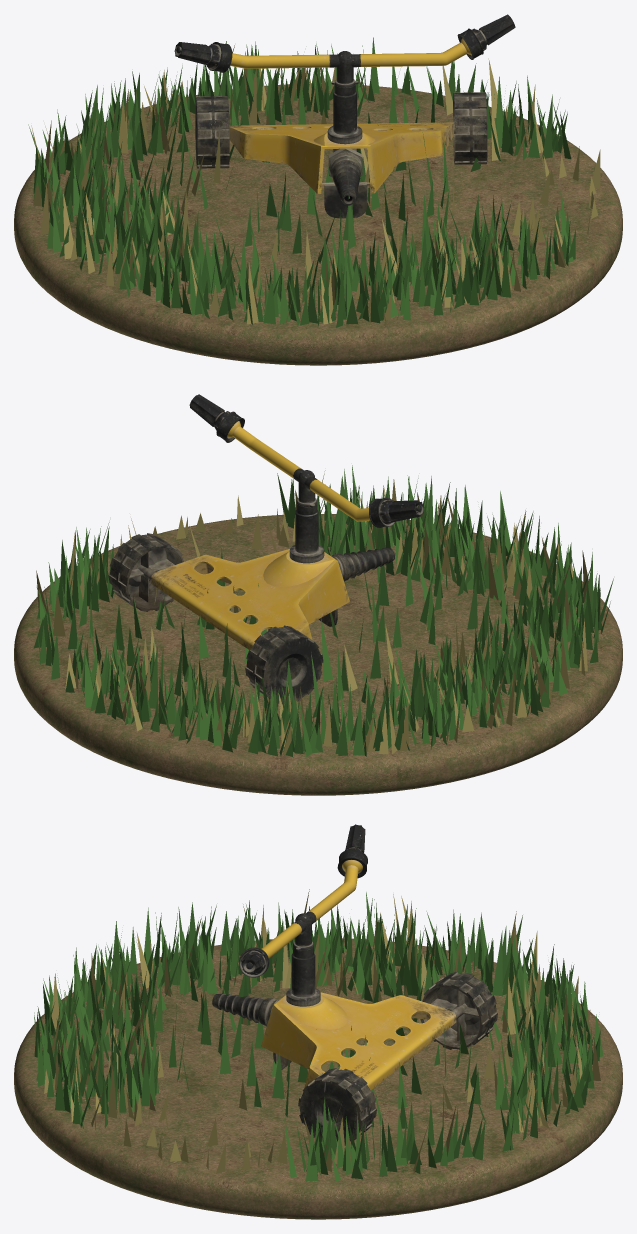
The model's file is sprinkler.glb.
3 renders of one model, top to bottom at view 1: azimuth 30°, elevation 25°; view 2: azimuth 150°, elevation 25°; view 3: azimuth 270°, elevation 25°, orthographic.
Visible parts, largest first — view 1: GroundPatch, GrassBlades, garden_sprinkler_01_body_main, garden_sprinkler_01_wheels, garden_sprinkler_01_spinner, garden_sprinkler_01_nozel_left, garden_sprinkler_01_nozel_right; view 2: GrassBlades, GroundPatch, garden_sprinkler_01_body_main, garden_sprinkler_01_wheels, garden_sprinkler_01_spinner, garden_sprinkler_01_nozel_left, garden_sprinkler_01_nozel_right; view 3: GroundPatch, GrassBlades, garden_sprinkler_01_body_main, garden_sprinkler_01_wheels, garden_sprinkler_01_spinner, garden_sprinkler_01_nozel_left, garden_sprinkler_01_nozel_right.
Boxes of the visible parts, bbox=[...] form: GroundPatch: bbox=[14, 84, 622, 365]; GrassBlades: bbox=[28, 37, 600, 327]; garden_sprinkler_01_body_main: bbox=[229, 79, 454, 218]; garden_sprinkler_01_wheels: bbox=[195, 92, 487, 168]; garden_sprinkler_01_spinner: bbox=[230, 38, 471, 84]; garden_sprinkler_01_nozel_left: bbox=[174, 42, 232, 72]; garden_sprinkler_01_nozel_right: bbox=[457, 14, 515, 59]; GrassBlades: bbox=[34, 465, 613, 756]; GroundPatch: bbox=[14, 514, 622, 795]; garden_sprinkler_01_body_main: bbox=[151, 498, 394, 650]; garden_sprinkler_01_wheels: bbox=[108, 533, 323, 703]; garden_sprinkler_01_spinner: bbox=[227, 421, 370, 521]; garden_sprinkler_01_nozel_left: bbox=[369, 497, 424, 527]; garden_sprinkler_01_nozel_right: bbox=[189, 394, 244, 442]; GroundPatch: bbox=[14, 937, 622, 1219]; GrassBlades: bbox=[34, 889, 603, 1181]; garden_sprinkler_01_body_main: bbox=[212, 941, 456, 1090]; garden_sprinkler_01_wheels: bbox=[298, 972, 497, 1145]; garden_sprinkler_01_spinner: bbox=[261, 860, 362, 958]; garden_sprinkler_01_nozel_left: bbox=[337, 824, 367, 878]; garden_sprinkler_01_nozel_right: bbox=[239, 947, 269, 977].
Size of the model in its own units: 2.6 by 1.01 by 2.6.
Materials: 4 (2 with a texture image).
